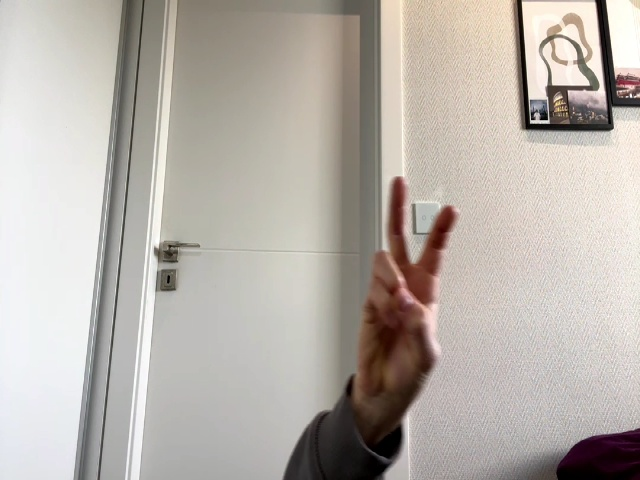H: (359, 177, 460, 404)
